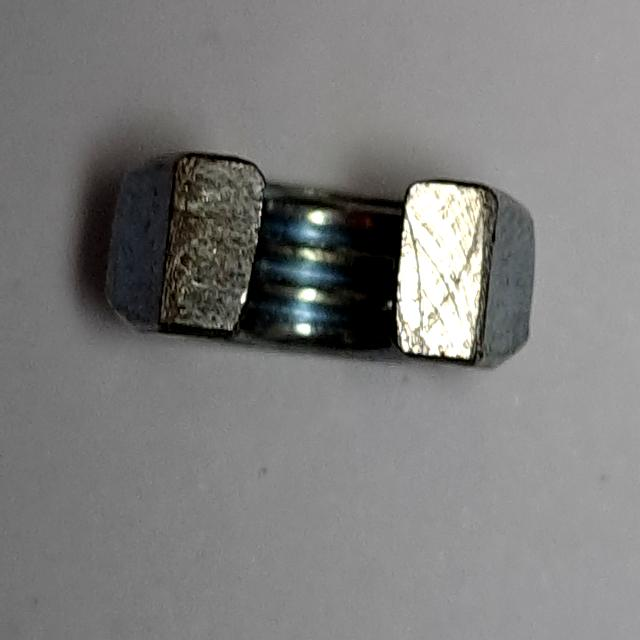Side-Fracture: (94, 130, 553, 402)
